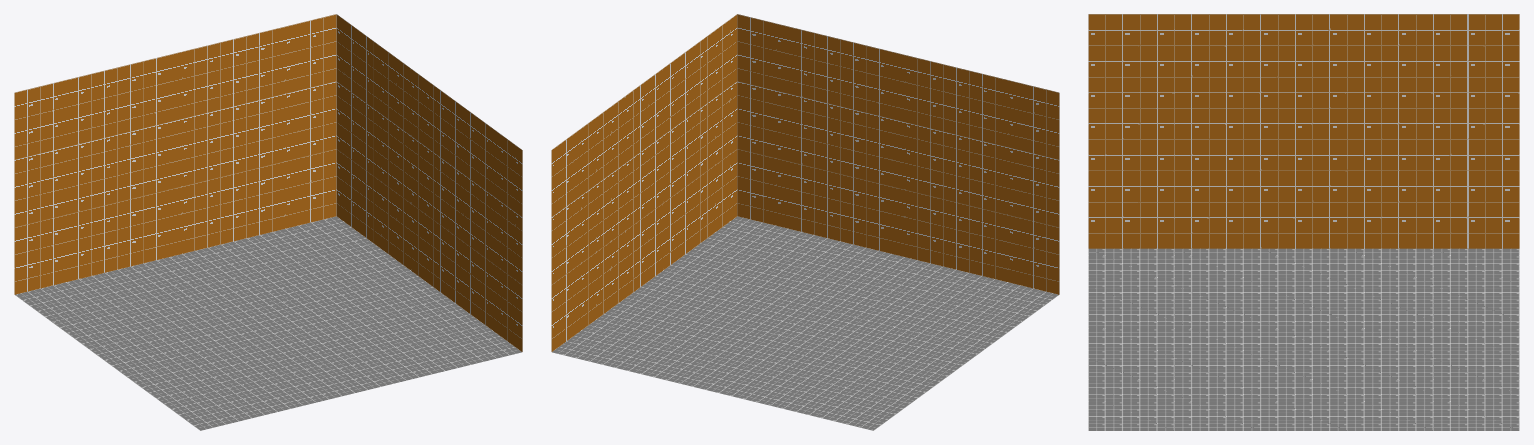
File: room.glb
3 renders of one model, left to right at view 1: azimuth 30°, elevation 25°; view 2: azimuth 150°, elevation 25°; view 3: azimuth 270°, elevation 25°, orthographic. The views are drawn at different scales.
Parts seen in each view (by area): view 1: walls, floor; view 2: walls, floor; view 3: walls, floor.
Boxes of the visible parts, bbox=[...] form: walls: bbox=[14, 14, 522, 351]; floor: bbox=[15, 216, 521, 430]; walls: bbox=[551, 14, 1059, 351]; floor: bbox=[552, 216, 1058, 430]; walls: bbox=[1088, 14, 1519, 248]; floor: bbox=[1088, 248, 1519, 430].
Bounding box in the file's own units: 50 × 30 × 50.
2 materials, 2 textured.
